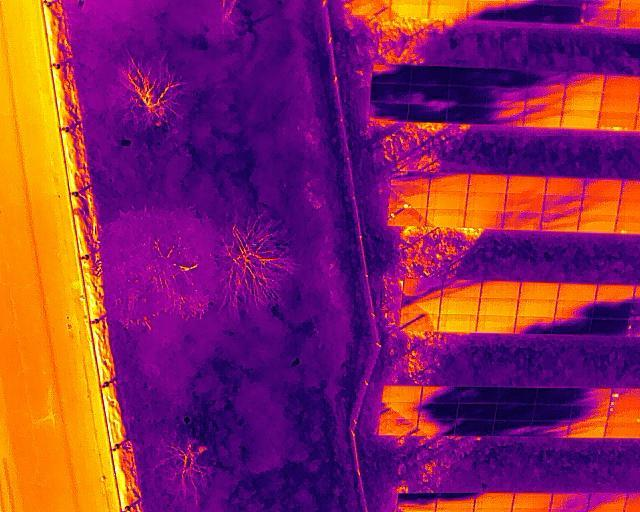Cell: (388, 208, 427, 226), (390, 192, 428, 209)
Cell-Multi: (598, 112, 637, 131)
No-Anomaly: (505, 192, 544, 212), (472, 493, 513, 512), (512, 493, 553, 512), (429, 175, 469, 194), (506, 175, 546, 194), (583, 180, 620, 200), (602, 94, 640, 113), (468, 175, 506, 194), (430, 0, 468, 19), (439, 297, 479, 315), (564, 92, 601, 111), (596, 285, 635, 303), (481, 281, 520, 299), (464, 211, 503, 229), (426, 210, 465, 228), (390, 0, 429, 18), (477, 315, 515, 333), (479, 297, 517, 315), (579, 216, 617, 234), (466, 194, 506, 211), (438, 315, 477, 332), (517, 300, 556, 317), (519, 283, 558, 300), (563, 110, 599, 128), (580, 199, 618, 216), (429, 193, 467, 210), (546, 178, 584, 195), (383, 386, 422, 402), (604, 77, 640, 94), (559, 284, 596, 300)
Shadowing: (447, 86, 489, 106), (448, 66, 489, 86), (543, 4, 582, 25), (410, 84, 448, 105), (447, 106, 489, 125), (525, 105, 563, 126), (371, 83, 410, 103), (566, 73, 604, 93), (526, 70, 566, 89), (389, 173, 429, 192), (504, 2, 542, 22), (372, 64, 410, 84), (433, 494, 475, 512), (408, 104, 447, 123), (369, 102, 408, 121), (503, 212, 542, 231), (410, 66, 449, 85), (526, 87, 564, 106), (543, 194, 581, 213), (531, 419, 569, 438), (489, 106, 525, 126), (582, 7, 618, 27), (350, 0, 390, 18), (551, 494, 591, 512), (395, 494, 435, 512), (489, 86, 526, 105), (467, 1, 504, 20), (442, 279, 481, 297), (515, 316, 553, 334), (541, 214, 579, 232), (404, 278, 442, 296), (379, 419, 417, 437), (534, 402, 571, 420), (422, 386, 459, 404), (570, 404, 609, 421), (568, 422, 609, 438), (489, 69, 527, 86), (401, 297, 439, 314), (459, 388, 499, 404), (455, 419, 495, 435), (494, 404, 534, 420), (573, 387, 610, 404), (592, 303, 629, 320), (556, 301, 593, 318), (588, 494, 625, 511), (498, 388, 537, 404), (456, 403, 495, 419), (382, 403, 420, 419), (553, 318, 591, 334), (400, 315, 438, 331), (418, 419, 456, 435), (592, 320, 629, 336), (537, 389, 573, 404), (494, 421, 532, 435), (419, 405, 456, 419)
